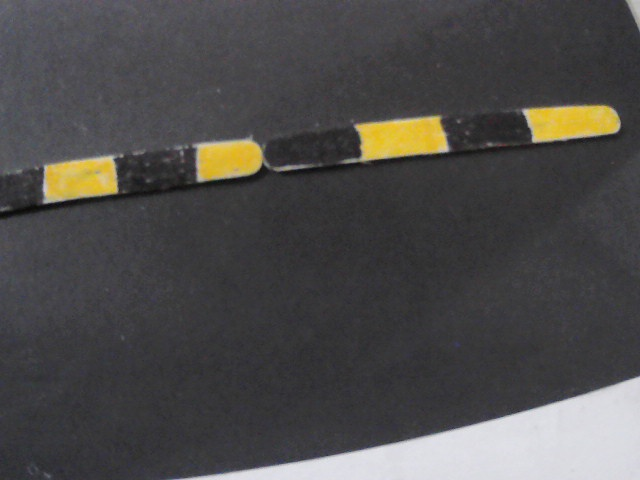black_strip: (262, 123, 358, 174), (113, 143, 196, 197), (442, 105, 528, 152), (0, 167, 40, 209)
mixed_lane: (3, 99, 613, 211)
yellow_strip: (526, 99, 622, 141), (40, 150, 116, 201), (361, 117, 448, 161), (195, 141, 261, 183)
